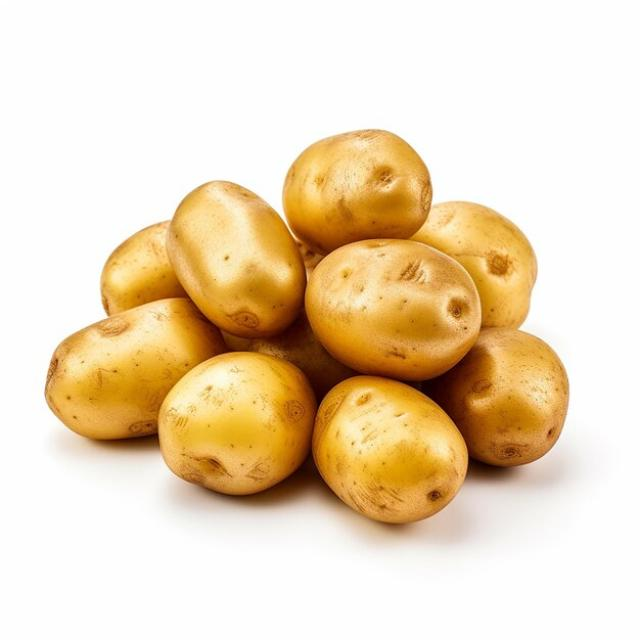Potato: (262, 353, 476, 541), (38, 276, 226, 479), (282, 230, 503, 397), (169, 167, 329, 363), (260, 132, 430, 238)
